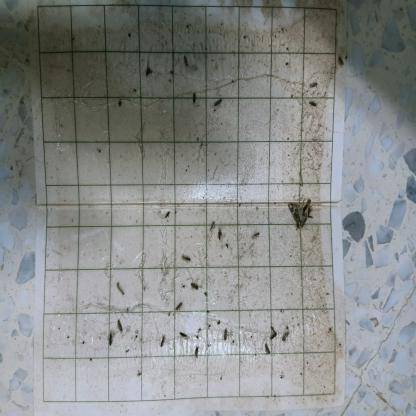prays_oleae: (212, 95, 228, 118), (308, 74, 322, 96), (267, 320, 280, 342), (113, 315, 125, 338), (189, 278, 202, 298), (158, 325, 168, 349), (106, 331, 116, 354), (172, 296, 184, 315), (336, 50, 344, 75), (219, 329, 232, 344), (190, 344, 202, 360), (180, 248, 192, 264), (180, 54, 191, 71), (178, 324, 188, 342), (262, 340, 272, 357), (162, 206, 172, 223), (216, 224, 224, 245), (191, 84, 198, 108), (281, 328, 290, 346), (308, 99, 318, 114)
